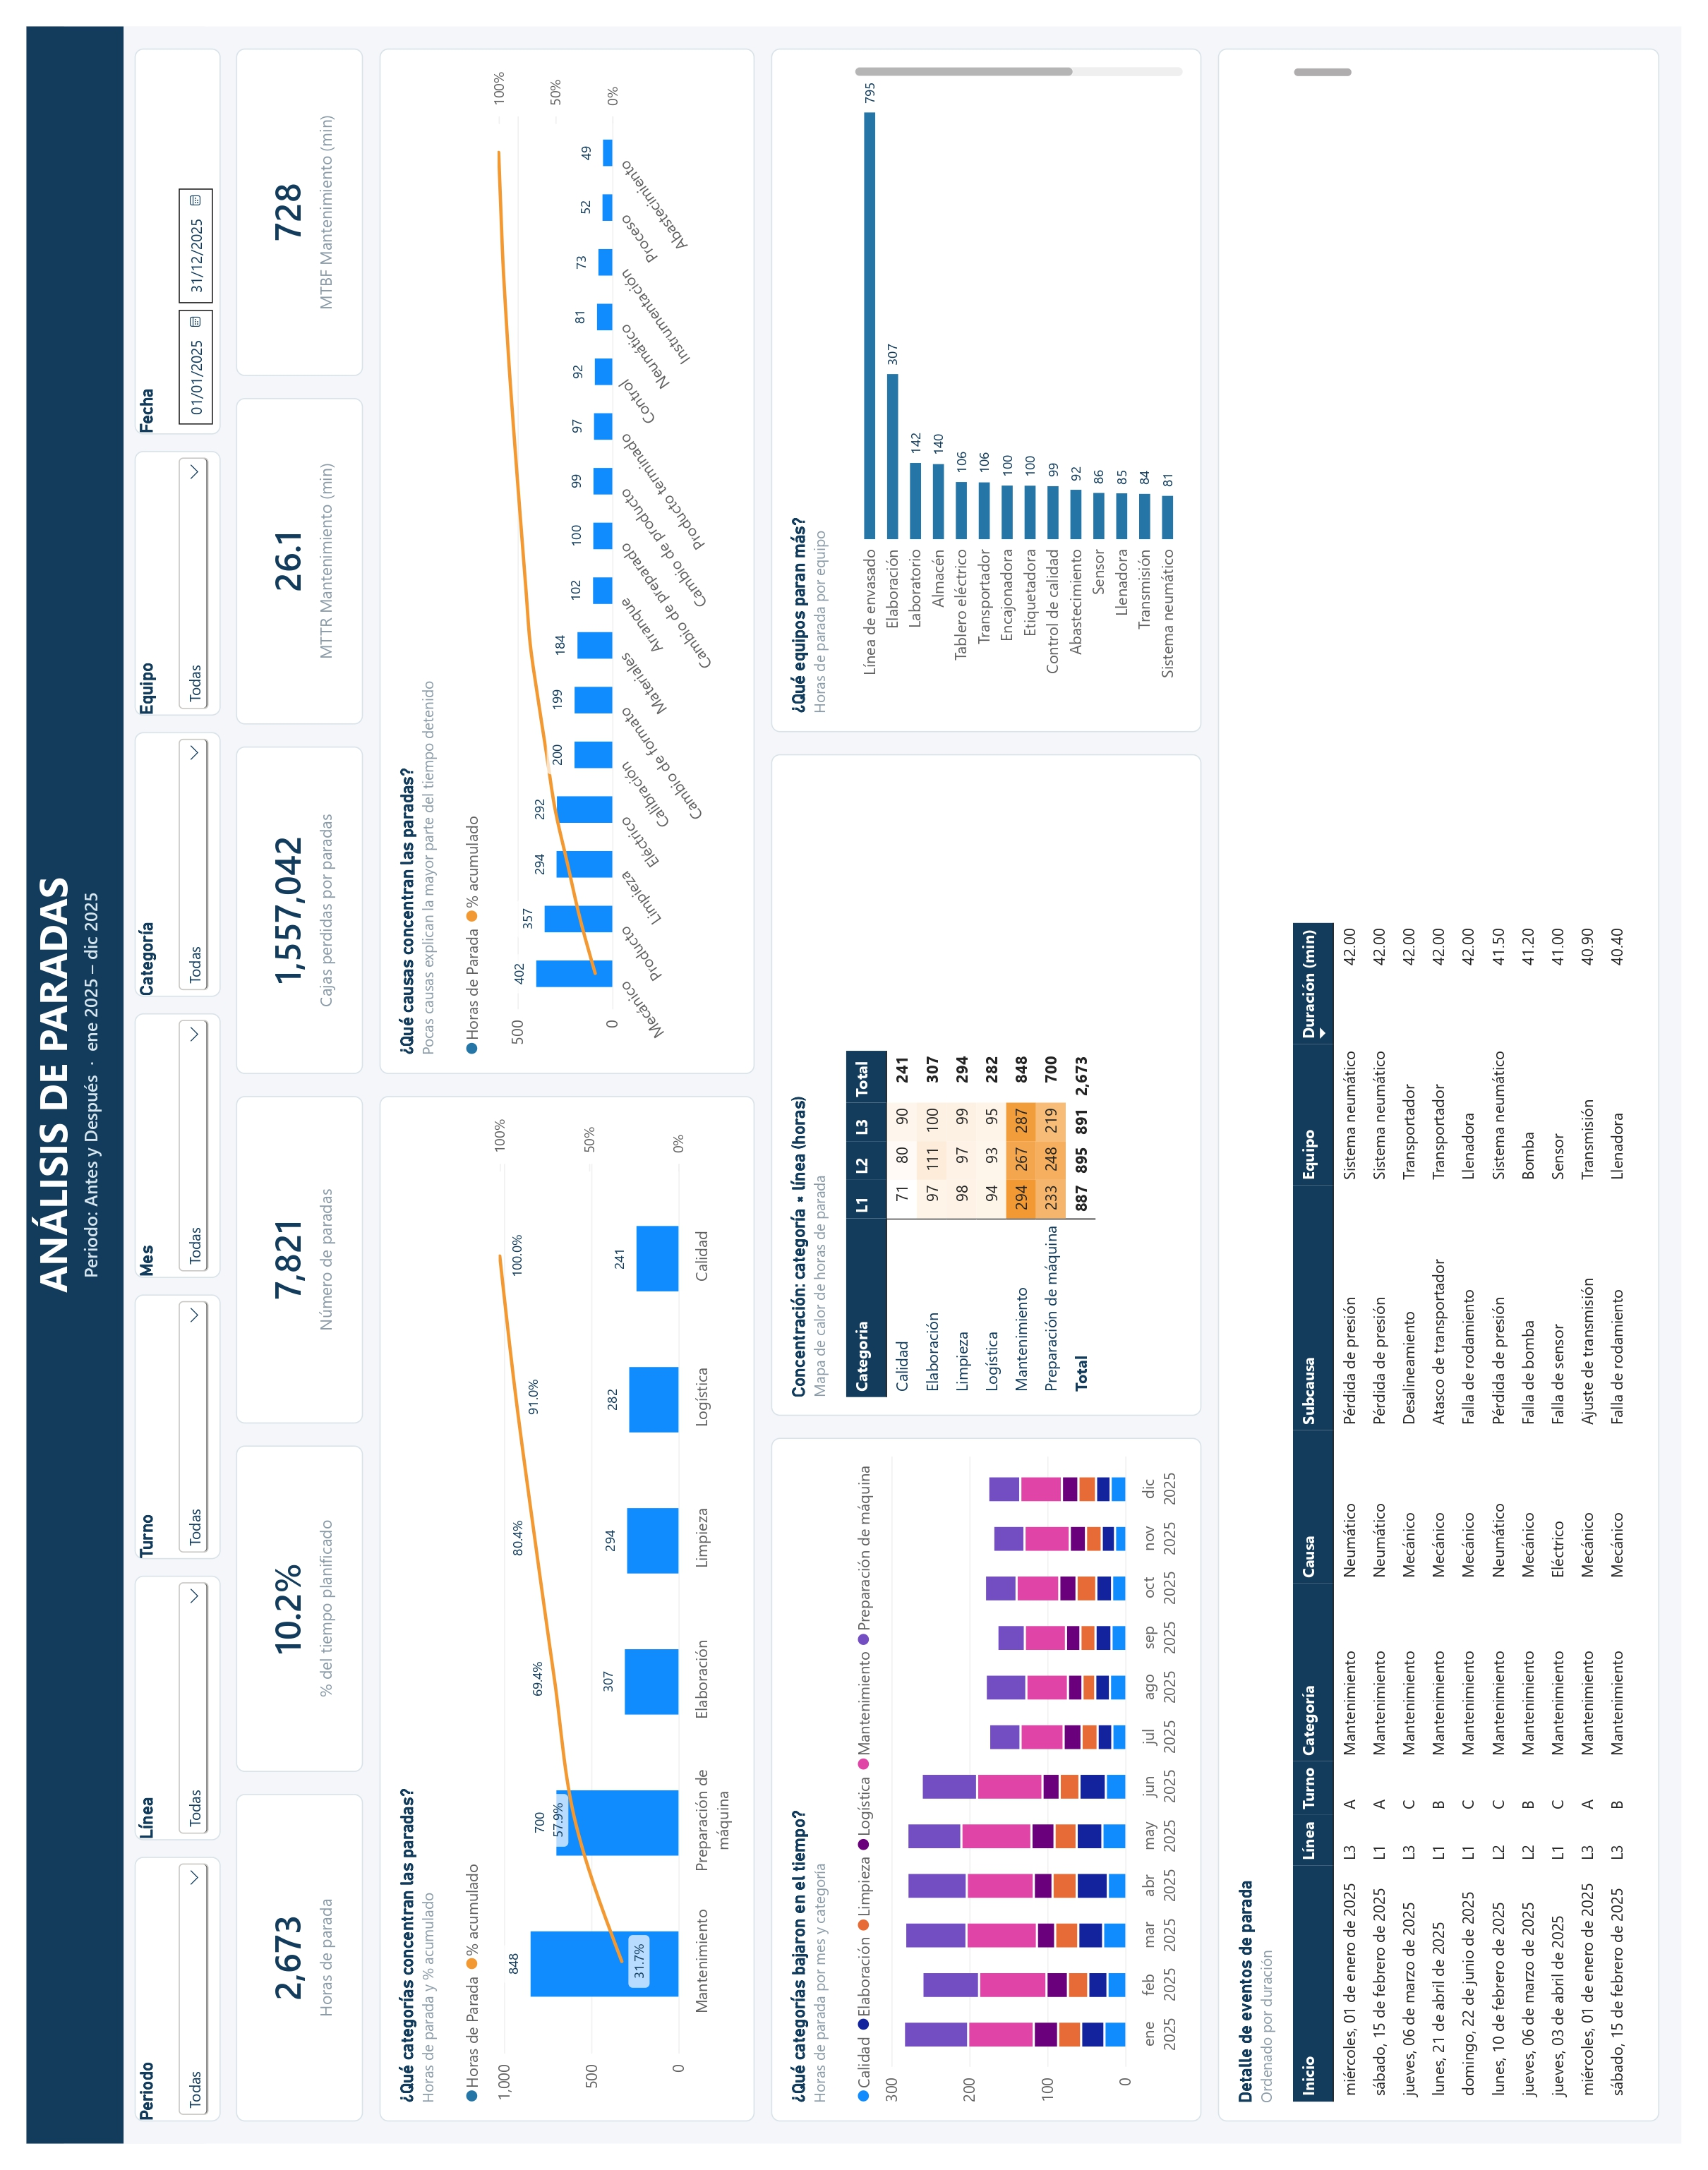

What the dashboard file says about the page in this screenshot:
{"tool":"powerbi","page":{"name":"Análisis de Paradas","canvas":[1920,1500],"ordinal":1},"visuals":[{"type":"shape","box":[0,0,1920,88],"z":2001},{"type":"textbox","box":[360,0,1200,50],"z":2002},{"type":"card","fields":{"Values":["Tabla_medida.Subtítulo Periodo"]},"box":[560,35,800,52.5],"z":2003},{"type":"slicer","title":"Periodo","fields":{"Values":["CalendarioDAX.Periodo"]},"box":[20,98,240,78],"z":2004},{"type":"slicer","title":"Línea","fields":{"Values":["Dim_Linea.linea"]},"box":[275,98,240,78],"z":2005},{"type":"slicer","title":"Turno","fields":{"Values":["Dim_Turno.Turno"]},"box":[530,98,240,78],"z":2006},{"type":"slicer","title":"Mes","fields":{"Values":["CalendarioDAX.Mes texto"]},"box":[785,98,240,78],"z":2007},{"type":"slicer","title":"Categoría","fields":{"Values":["Dim_Parada.Categoria"]},"box":[1040,98,240,78],"z":2008},{"type":"slicer","title":"Equipo","fields":{"Values":["Dim_Parada.Equipo"]},"box":[1295,98,240,78],"z":2009},{"type":"slicer","title":"Fecha","fields":{"Values":["CalendarioDAX.Date"]},"box":[1550,98,350,78],"z":2010},{"type":"card","fields":{"Values":["Tabla_medida.Horas de Parada"]},"box":[20,190,296.7,115],"z":2011},{"type":"card","fields":{"Values":["Tabla_medida.% Tiempo de Parada"]},"box":[336.7,190,296.7,115],"z":2012},{"type":"card","fields":{"Values":["Tabla_medida.Número de Paradas"]},"box":[653.3,190,296.7,115],"z":2013},{"type":"card","fields":{"Values":["Tabla_medida.Cajas Perdidas por Paradas"]},"box":[970,190,296.7,115],"z":2014},{"type":"card","fields":{"Values":["Tabla_medida.MTTR Mantenimiento"]},"box":[1286.7,190,296.7,115],"z":2015},{"type":"card","fields":{"Values":["Tabla_medida.MTBF Mantenimiento"]},"box":[1603.3,190,296.7,115],"z":2016},{"type":"lineClusteredColumnComboChart","title":"¿Qué categorías concentran las paradas?","fields":{"Category":["Dim_Parada.Categoria"],"Y":["Tabla_medida.Horas de Parada"],"Y2":["Tabla_medida.% Acumulado Paradas"]},"box":[20,320,930,340],"z":2017},{"type":"lineClusteredColumnComboChart","title":"¿Qué causas concentran las paradas?","fields":{"Category":["Dim_Parada.Causa"],"Y":["Tabla_medida.Horas de Parada"],"Y2":["Tabla_medida.% Acumulado Causa"]},"box":[970,320,930,340],"z":2018},{"type":"columnChart","title":"¿Qué categorías bajaron en el tiempo?","fields":{"Category":["CalendarioDAX.Mes Año"],"Series":["Dim_Parada.Categoria"],"Y":["Tabla_medida.Horas de Parada"]},"box":[20,675,620,390],"z":2019},{"type":"pivotTable","title":"Concentración: categoría × línea (horas)","fields":{"Columns":["Dim_Linea.linea"],"Rows":["Dim_Parada.Categoria"],"Values":["Tabla_medida.Horas de Parada"]},"box":[660,675,600,390],"z":2020},{"type":"clusteredBarChart","title":"¿Qué equipos paran más?","fields":{"Category":["Dim_Parada.Equipo"],"Y":["Tabla_medida.Horas de Parada"]},"box":[1280,675,620,390],"z":2021},{"type":"tableEx","title":"Detalle de eventos de parada","fields":{"Values":["paradas_12m_completa.fecha_inicio","paradas_12m_completa.linea","paradas_12m_completa.turno","Dim_Parada.Categoria","Dim_Parada.Causa","Dim_Parada.Subcausa","Dim_Parada.Equipo","paradas_12m_completa.duracion_min"]},"box":[20,1080,1880,400],"z":2022}]}

Visuals, with their boxes on the page's 1920x1500 design canvas (x1, y1, x2, y2). These are canvas units, not pixel positions in the 1708x2170 screenshot, which may show the page scaled, cropped or inside an application window:
shape: select_region(0, 0, 1920, 88)
textbox: select_region(360, 0, 1560, 50)
card - Tabla_medida.Subtítulo Periodo: select_region(560, 35, 1360, 88)
"Periodo" slicer: select_region(20, 98, 260, 176)
"Línea" slicer: select_region(275, 98, 515, 176)
"Turno" slicer: select_region(530, 98, 770, 176)
"Mes" slicer: select_region(785, 98, 1025, 176)
"Categoría" slicer: select_region(1040, 98, 1280, 176)
"Equipo" slicer: select_region(1295, 98, 1535, 176)
"Fecha" slicer: select_region(1550, 98, 1900, 176)
card - Tabla_medida.Horas de Parada: select_region(20, 190, 317, 305)
card - Tabla_medida.% Tiempo de Parada: select_region(337, 190, 633, 305)
card - Tabla_medida.Número de Paradas: select_region(653, 190, 950, 305)
card - Tabla_medida.Cajas Perdidas por Paradas: select_region(970, 190, 1267, 305)
card - Tabla_medida.MTTR Mantenimiento: select_region(1287, 190, 1583, 305)
card - Tabla_medida.MTBF Mantenimiento: select_region(1603, 190, 1900, 305)
"¿Qué categorías concentran las paradas?" lineClusteredColumnComboChart: select_region(20, 320, 950, 660)
"¿Qué causas concentran las paradas?" lineClusteredColumnComboChart: select_region(970, 320, 1900, 660)
"¿Qué categorías bajaron en el tiempo?" columnChart: select_region(20, 675, 640, 1065)
"Concentración: categoría × línea (horas)" pivotTable: select_region(660, 675, 1260, 1065)
"¿Qué equipos paran más?" clusteredBarChart: select_region(1280, 675, 1900, 1065)
"Detalle de eventos de parada" tableEx: select_region(20, 1080, 1900, 1480)
